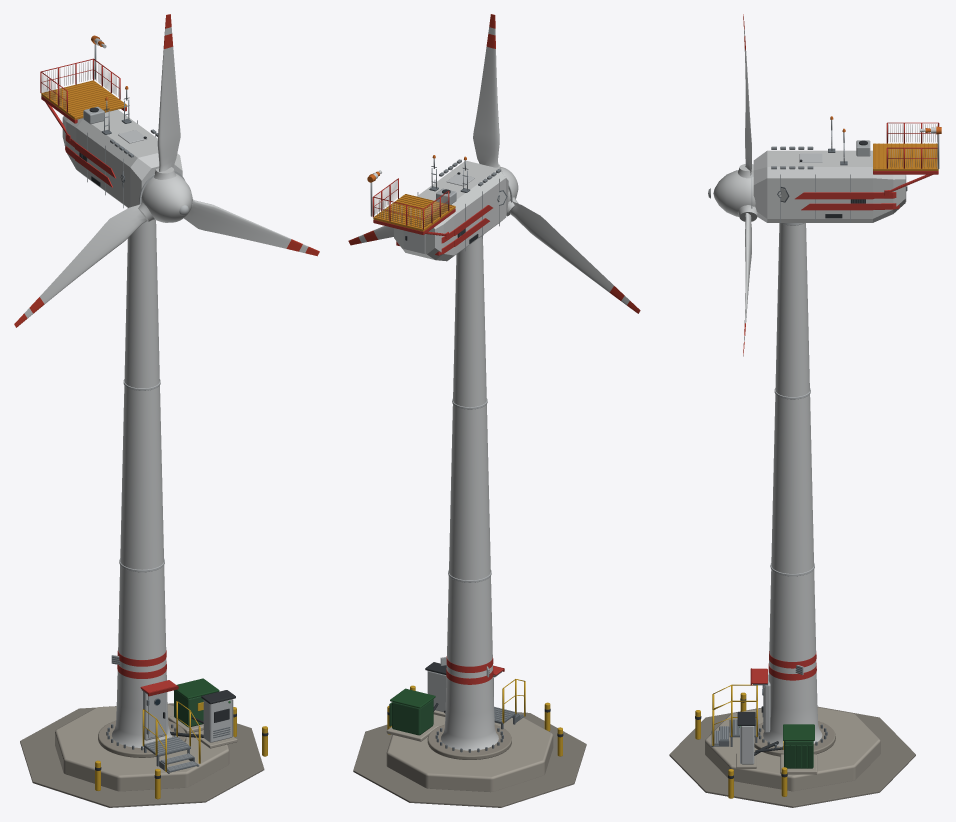
File: wind_turbine.glb
The picture shows the model from 3 angles, left to right: view 1: azimuth 30°, elevation 25°; view 2: azimuth 150°, elevation 25°; view 3: azimuth 270°, elevation 25°; orthographic projection. The views are drawn at different scales.
Parts seen in each view (by area): view 1: tower, cyl.001, cyl.002, nacelle, blade.002, blade.001, blade, spinner, block.118, block.049, cyl.003, block.059 (+2 smaller); view 2: tower, cyl.002, cyl.001, nacelle, blade, blade.002, block.118, cyl.003, block.059, block.049, block.060; view 3: tower, nacelle, cyl.001, cyl.002, block.118, spinner, cyl.003, blade, blade.001, band.001, band.004, block.049 (+1 smaller).
Part boxes in pixels (left/top/right/bottom): tower: left=112, top=220, right=172, bottom=747; cyl.001: left=20, top=703, right=264, bottom=807; cyl.002: left=55, top=704, right=229, bottom=791; nacelle: left=62, top=109, right=182, bottom=207; blade.002: left=14, top=204, right=146, bottom=327; blade.001: left=184, top=199, right=319, bottom=256; blade: left=157, top=14, right=180, bottom=171; spinner: left=141, top=173, right=192, bottom=222; block.118: left=41, top=80, right=126, bottom=119; block.049: left=203, top=699, right=232, bottom=742; cyl.003: left=98, top=720, right=186, bottom=757; block.059: left=174, top=690, right=203, bottom=727; tower: left=441, top=236, right=498, bottom=750; cyl.002: left=386, top=714, right=553, bottom=792; cyl.001: left=353, top=712, right=586, bottom=807; nacelle: left=394, top=160, right=508, bottom=261; blade: left=473, top=14, right=499, bottom=167; blade.002: left=510, top=201, right=640, bottom=313; block.118: left=373, top=194, right=455, bottom=231; cyl.003: left=427, top=724, right=511, bottom=759; block.059: left=392, top=699, right=433, bottom=735; block.049: left=427, top=671, right=446, bottom=712; block.060: left=390, top=688, right=435, bottom=708; tower: left=763, top=223, right=822, bottom=746; nacelle: left=753, top=150, right=905, bottom=222; cyl.001: left=669, top=706, right=915, bottom=807; cyl.002: left=705, top=707, right=880, bottom=791; block.118: left=873, top=143, right=938, bottom=170; spinner: left=713, top=170, right=755, bottom=216; cyl.003: left=754, top=721, right=835, bottom=756; blade: left=743, top=14, right=751, bottom=175; blade.001: left=743, top=213, right=751, bottom=356; band.001: left=795, top=192, right=873, bottom=199; band.004: left=801, top=203, right=873, bottom=210; block.049: left=741, top=726, right=754, bottom=764.
Bounding box in the file's own units: 8.38 × 19.9 × 6.62.
